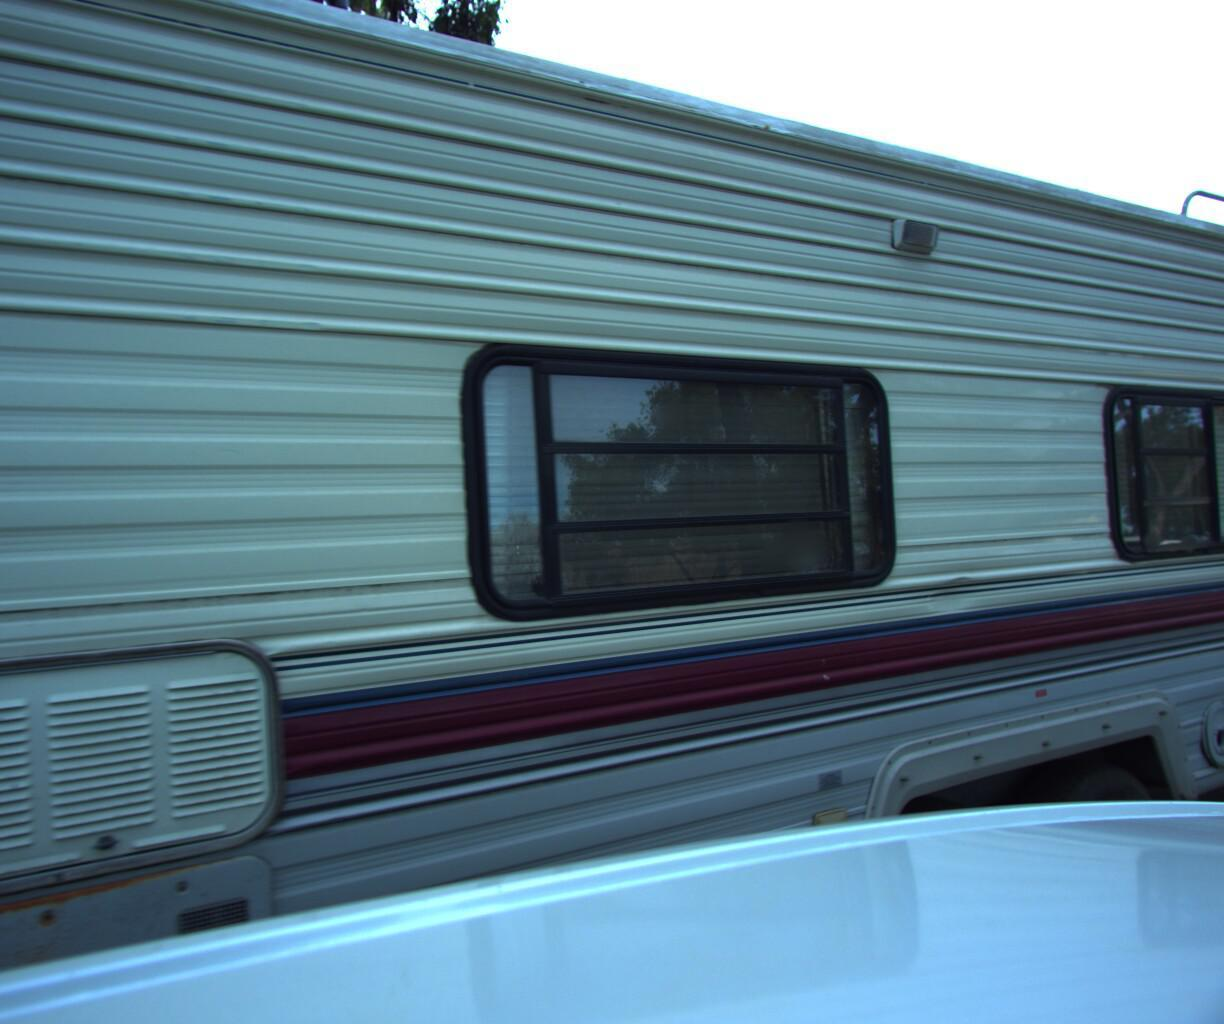car: (1165, 439, 1224, 783)
other_vehicle: (0, 0, 1224, 1024)
